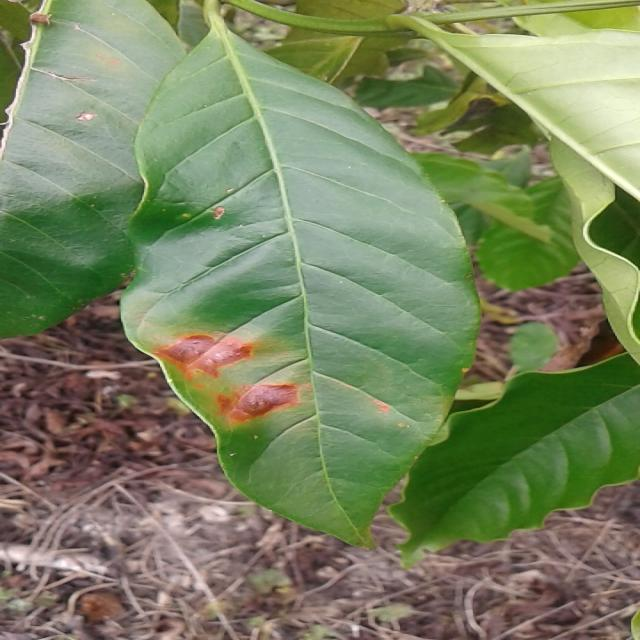Plaga-AranaRoja: (119, 0, 481, 548)
